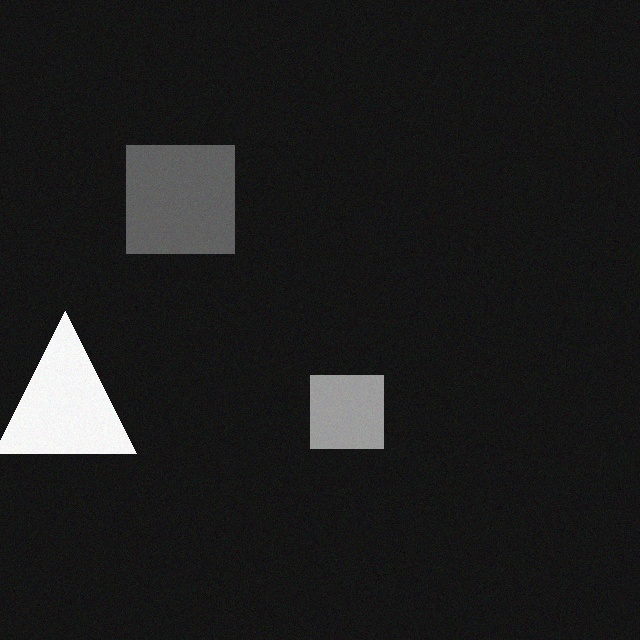square: (136, 146, 244, 254), (320, 376, 393, 449)
triangle: (4, 312, 146, 454)
